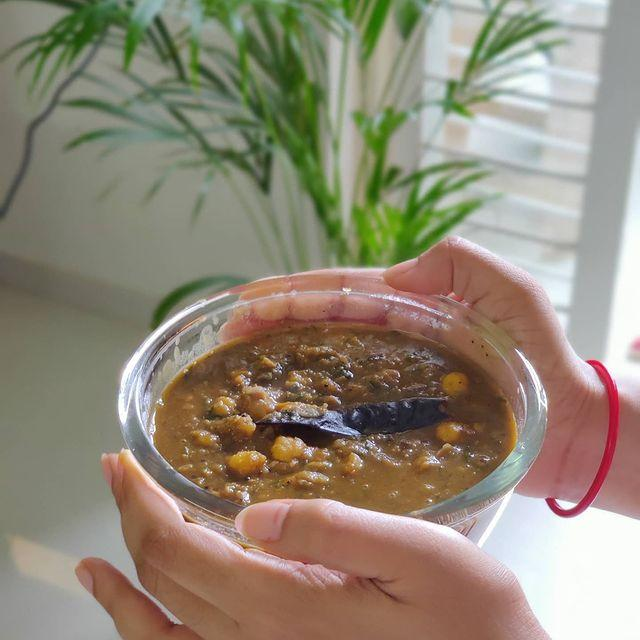Chole: (196, 332, 412, 486)
